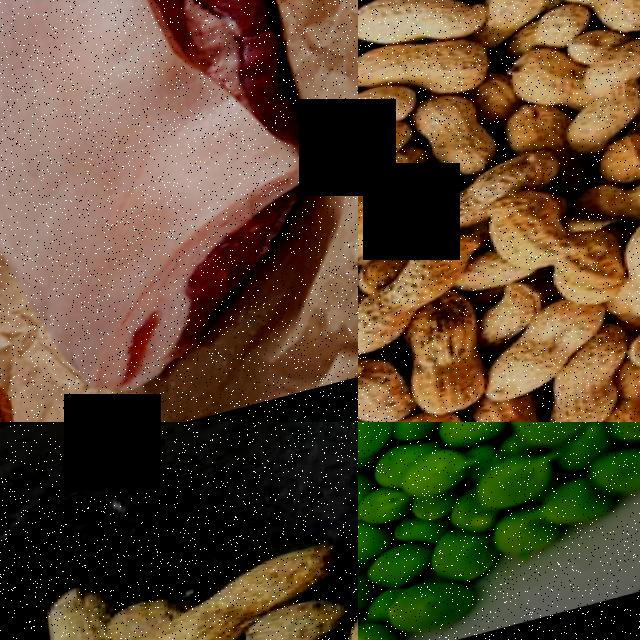peanuts: (482, 180, 596, 289), (401, 308, 508, 422), (209, 545, 355, 628), (408, 90, 506, 183), (392, 229, 497, 312), (404, 34, 498, 109), (358, 0, 462, 60), (562, 87, 640, 166), (31, 578, 130, 640), (358, 180, 411, 275), (237, 598, 354, 640), (358, 346, 420, 422), (358, 71, 421, 144), (358, 115, 419, 183), (615, 200, 640, 330), (479, 0, 568, 34), (581, 0, 640, 47)
peas: (358, 422, 640, 640)
pork belly: (0, 0, 358, 422)
